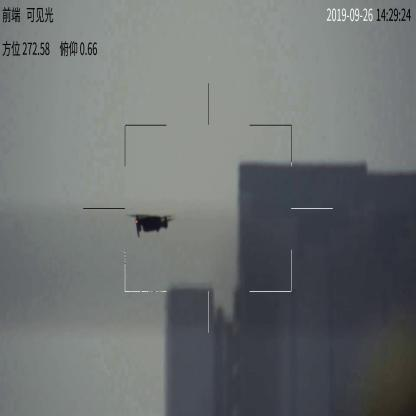uav: (128, 213, 177, 238)
